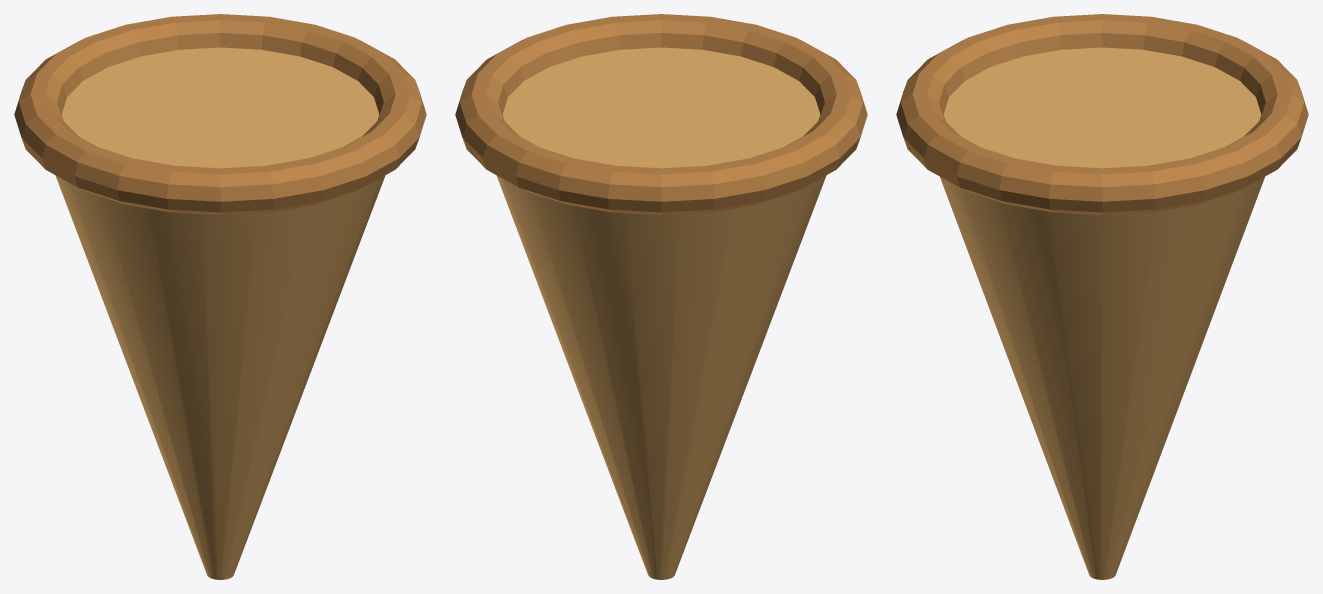
File: Ice_L3.fbx
3 views of the same model, side by side, from view 1: azimuth 30°, elevation 25°; view 2: azimuth 150°, elevation 25°; view 3: azimuth 270°, elevation 25° (orthographic).
Visible parts, largest first — view 1: I3_Cone, I3_Rim; view 2: I3_Cone, I3_Rim; view 3: I3_Cone, I3_Rim.
Part boxes in pixels (left/top/right/bottom): I3_Cone: left=55, top=47, right=385, bottom=579; I3_Rim: left=14, top=14, right=426, bottom=215; I3_Cone: left=496, top=47, right=826, bottom=579; I3_Rim: left=455, top=14, right=867, bottom=215; I3_Cone: left=940, top=47, right=1264, bottom=579; I3_Rim: left=896, top=14, right=1308, bottom=215.
Size of the model in its own units: 12.2 by 15.67 by 12.2.
